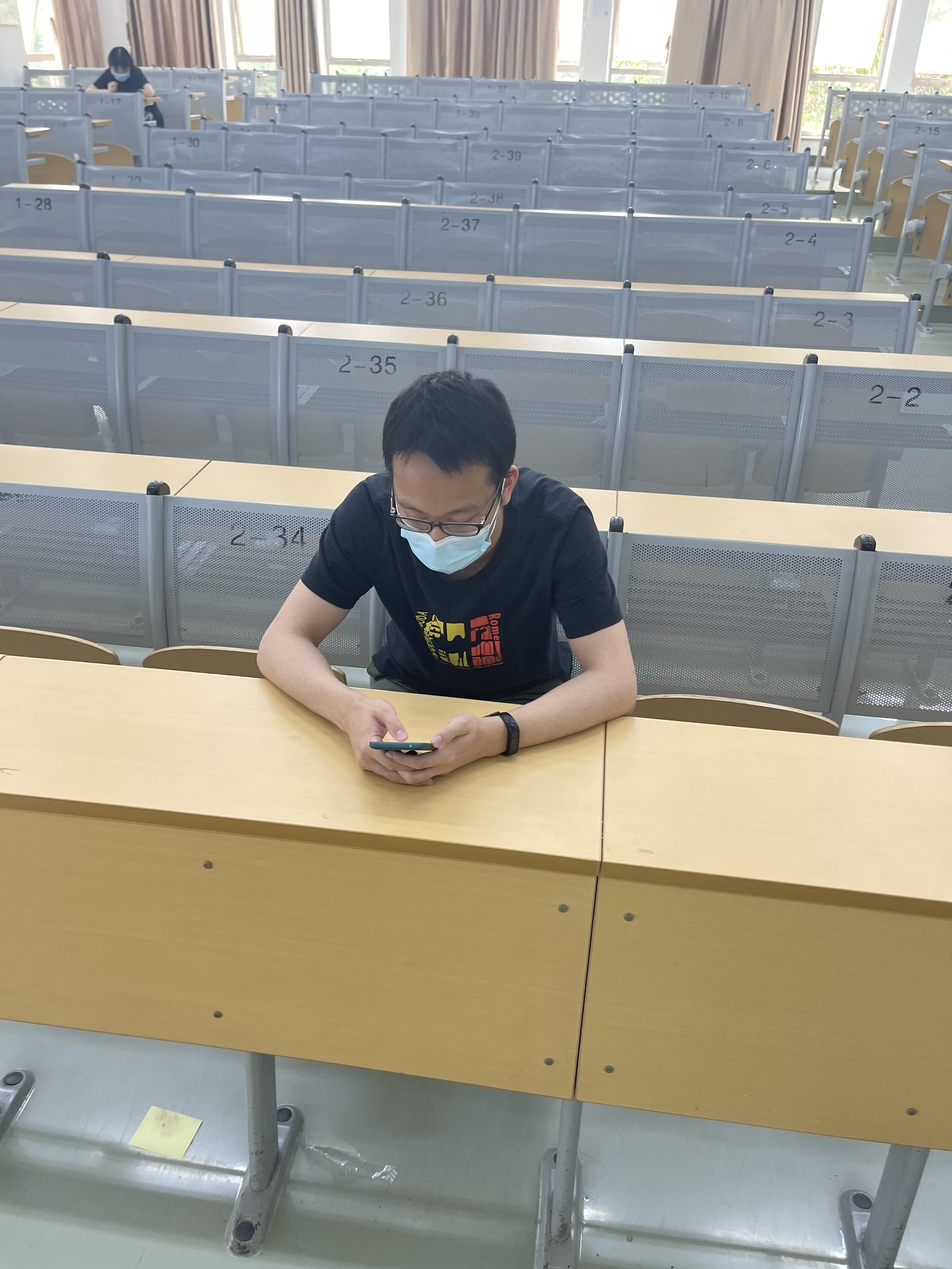phone: (257, 374, 638, 791)
